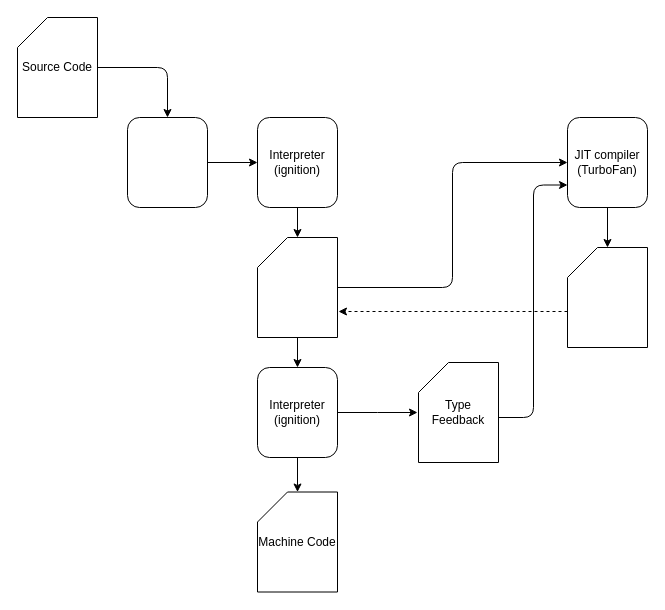
Image size: 665x610. Some labels were removed from this diagram. Here are the shapes that lost their labels. From the top down, the centre of each, then its label:
At [167,162]: "Parser".
At [297,287]: "Byte Code".
At [607,297]: "(optimized) Machine Code".
